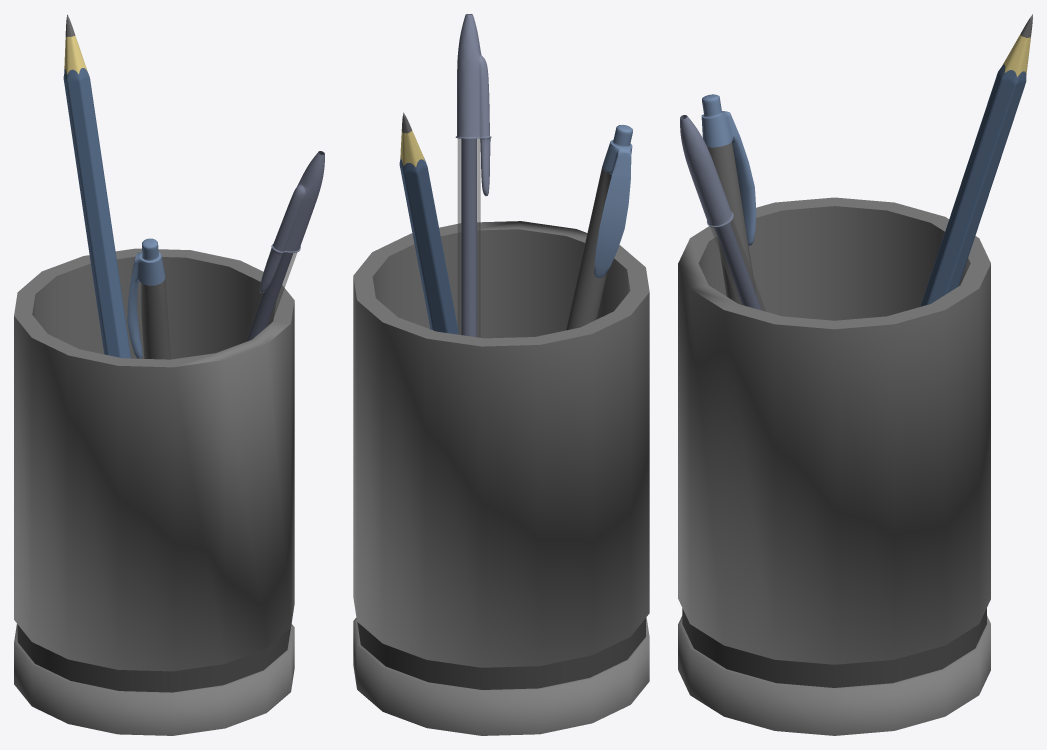
Rendered from lapicero.glb.
3 renders of one model, left to right at view 1: azimuth 30°, elevation 25°; view 2: azimuth 150°, elevation 25°; view 3: azimuth 270°, elevation 25°, orthographic. The views are drawn at different scales.
Visible parts, largest first — view 1: lapicero; view 2: lapicero; view 3: lapicero.
Boxes of the visible parts, x1,y1,x2,y2 form: lapicero: (14, 14, 324, 735); lapicero: (353, 14, 649, 735); lapicero: (678, 14, 1032, 735).
Size of the model in its own units: 7.3 by 17 by 8.3.
Materials: 13 (1 with a texture image).
